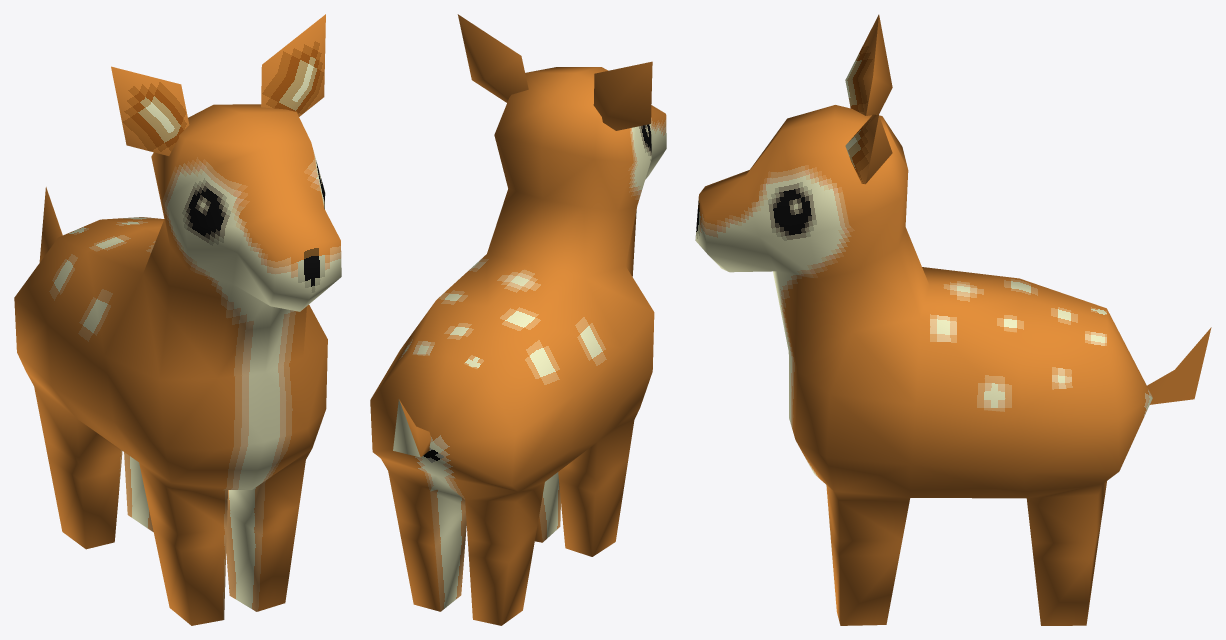
Rendered from deer.obj.
The picture shows the model from 3 angles, left to right: view 1: azimuth 30°, elevation 25°; view 2: azimuth 150°, elevation 25°; view 3: azimuth 270°, elevation 25°; orthographic projection. The views are drawn at different scales.
Visible parts, largest first — view 1: polygon1, polygon0; view 2: polygon1, polygon0; view 3: polygon1, polygon0.
Boxes of the visible parts, x1,y1,x2,y2 form: polygon1: (14, 187, 327, 625); polygon0: (111, 14, 341, 378); polygon1: (370, 254, 654, 625); polygon0: (457, 14, 666, 277); polygon1: (788, 267, 1211, 625); polygon0: (695, 14, 929, 370).
Size of the model in its own units: 1.07 by 2.67 by 2.32.
